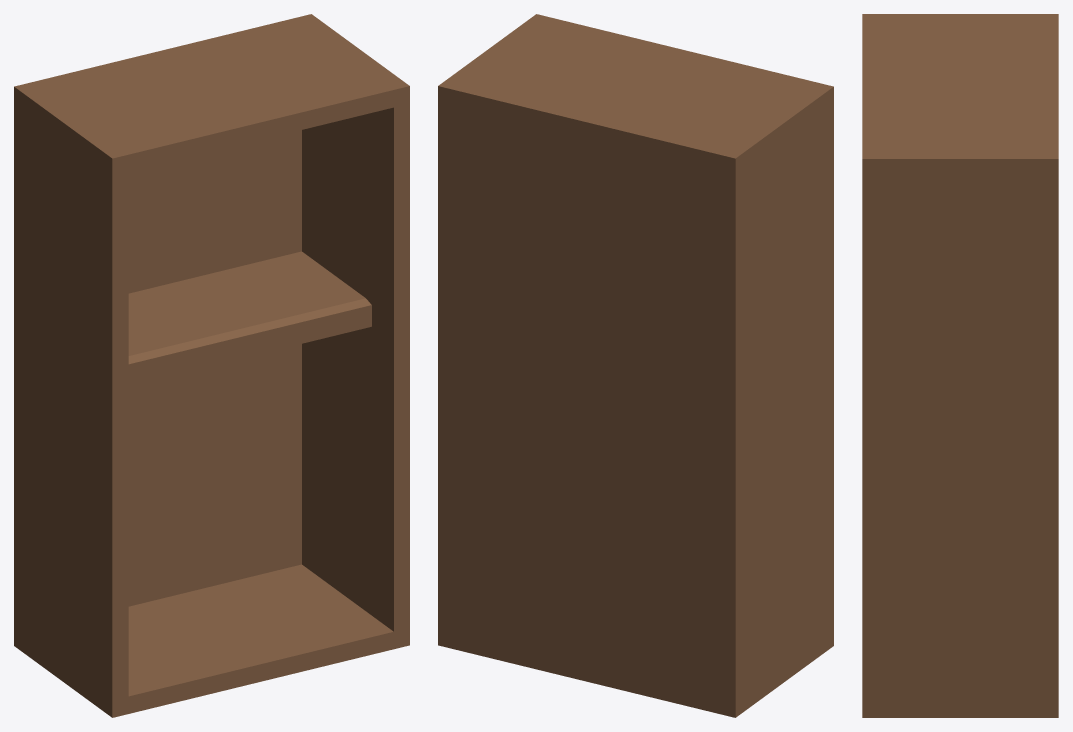
Rendered from Pantry.fbx.
3 renders of one model, left to right at view 1: azimuth 30°, elevation 25°; view 2: azimuth 150°, elevation 25°; view 3: azimuth 270°, elevation 25°, orthographic.
Visible parts, largest first — view 1: Pantry; view 2: Pantry; view 3: Pantry.
Boxes of the visible parts, x1,y1,x2,y2 form: Pantry: (14,14,409,717); Pantry: (438,14,833,717); Pantry: (862,14,1058,717).
Size of the model in its own units: 1515 by 2723 by 868.
